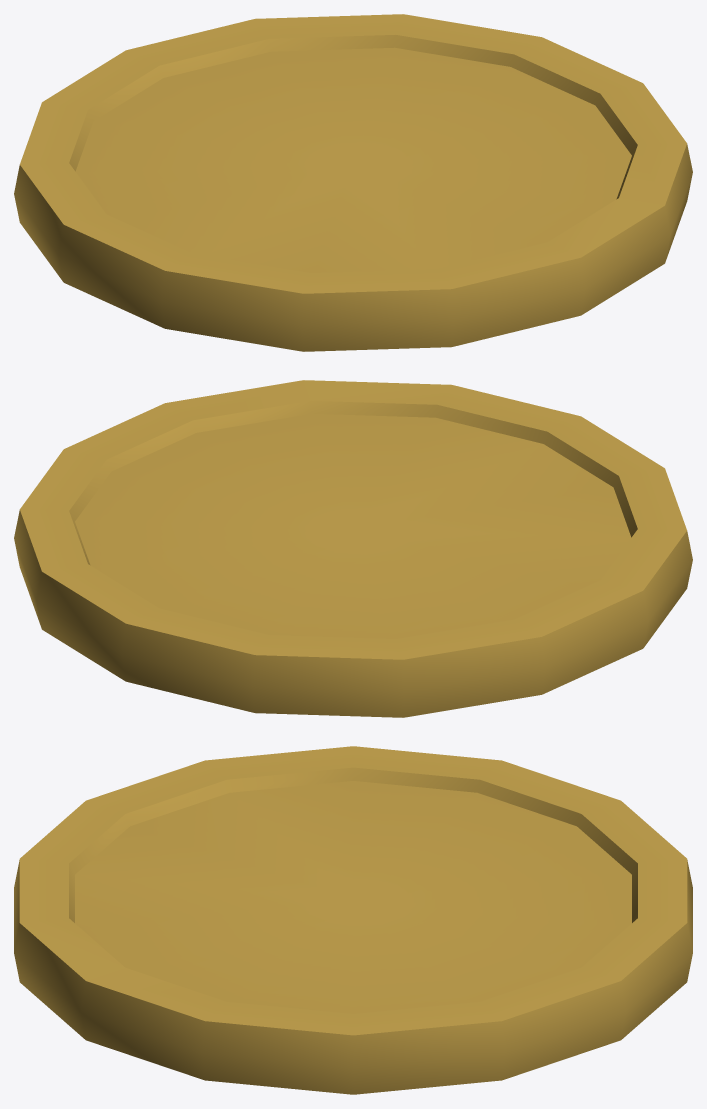
The model's file is coin.glb.
3 views of the same model, one above another, from view 1: azimuth 30°, elevation 25°; view 2: azimuth 150°, elevation 25°; view 3: azimuth 270°, elevation 25° (orthographic). The views are drawn at different scales.
Parts seen in each view (by area): view 1: coin; view 2: coin; view 3: coin.
Part boxes in pixels (x1,y1,x2,y2): coin: (14,14,692,351); coin: (14,380,692,717); coin: (14,746,692,1094).
Size of the model in its own units: 0.0234 by 0.0022 by 0.0228.
